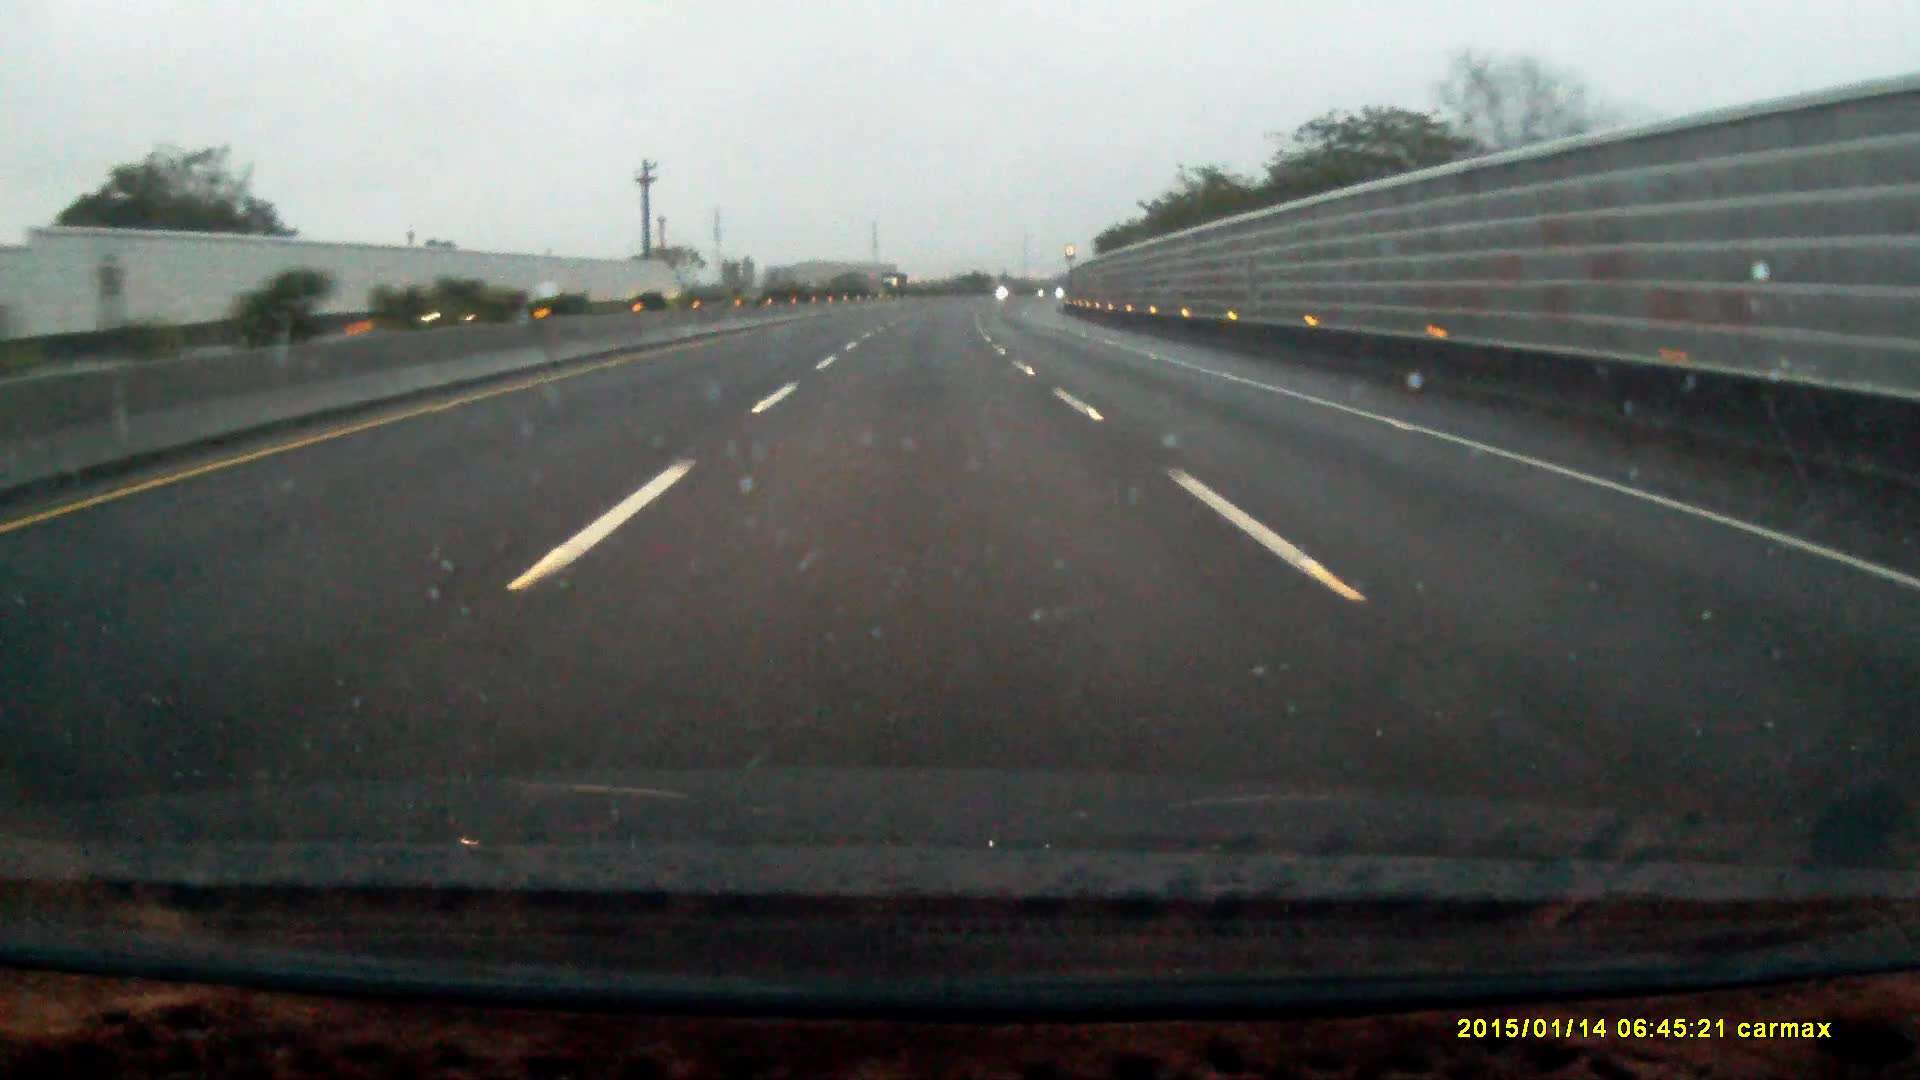vehicle: (882, 274, 909, 299)
